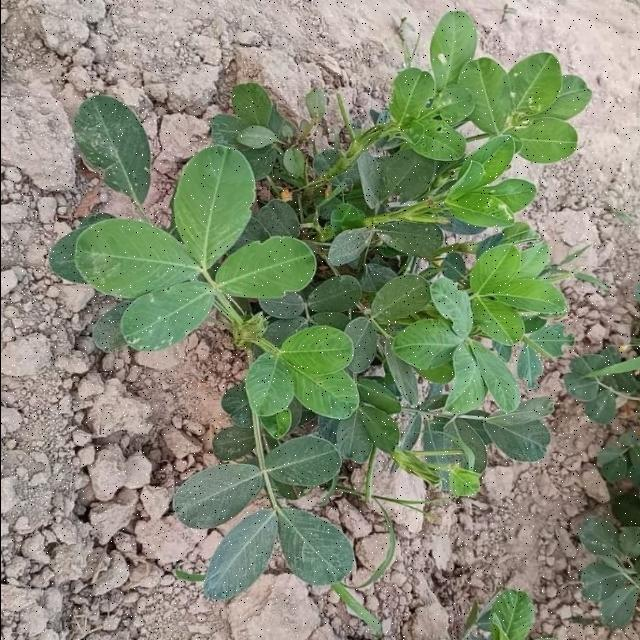plant: (49, 11, 596, 600)
